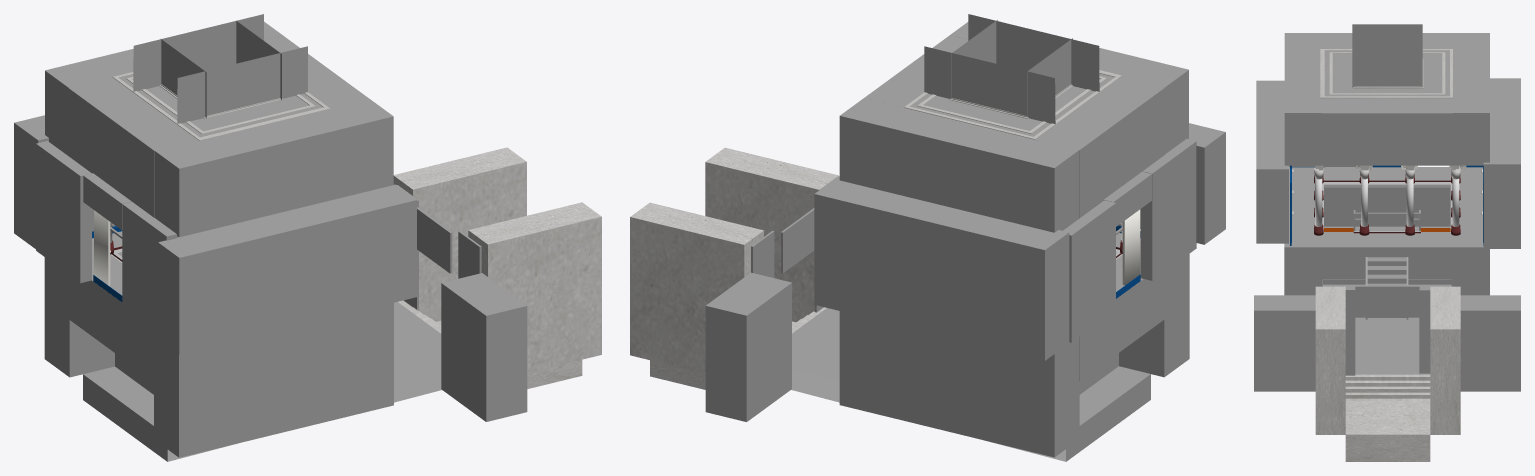
File: MainStairs.fbx
The picture shows the model from 3 angles, left to right: view 1: azimuth 30°, elevation 25°; view 2: azimuth 150°, elevation 25°; view 3: azimuth 270°, elevation 25°; orthographic projection. The views are drawn at different scales.
Parts seen in each view (by area): view 1: Cube.015, Cube.014, Cube.054, Cube.075, Cube.056, Cube.052, Cube.074, Cube.071, Cube.073, pCube2, Cube.011, Cube.013 (+12 smaller); view 2: Cube.016, Cube.013, Cube.072, Cube.074, Cube.057, Cube.052, Cube.075, Cube.070, Cube.073, pCube1, pCube2, Cube.011 (+12 smaller); view 3: Cube.053, Cube.056, Cube.057, Cube.016, Cube.011, Cube.051, Cube.015, Cube.054, Cube.072, Cube.074, Cube.075, Cube.073 (+23 smaller).
Boxes of the visible parts, x1,y1,x2,y2 form: Cube.015: (158,184,416,354); Cube.014: (154,303,393,457); Cube.054: (155,98,393,237); Cube.075: (468,202,601,372); Cube.056: (441,273,527,421); Cube.052: (68,77,197,217); Cube.074: (393,147,526,321); Cube.071: (177,46,322,137); Cube.073: (83,302,441,461); pCube2: (36,141,91,283); Cube.011: (69,255,153,381); Cube.013: (44,231,122,377); Cube.016: (814,176,1069,360); Cube.013: (839,311,1079,457); Cube.072: (839,98,1078,232); Cube.074: (630,202,763,373); Cube.057: (705,272,791,421); Cube.052: (1035,77,1164,218); Cube.075: (705,147,838,322); Cube.070: (910,46,1055,136); Cube.073: (791,308,1150,461); pCube1: (1140,139,1196,280); pCube2: (1063,200,1115,342); Cube.011: (1079,255,1164,380); Cube.053: (1321,98,1452,165); Cube.056: (1254,295,1315,391); Cube.057: (1460,295,1520,391); Cube.016: (1483,78,1520,248); Cube.011: (1323,167,1451,221); Cube.051: (1345,401,1430,461); Cube.015: (1256,80,1288,243); Cube.054: (1284,33,1321,165); Cube.072: (1453,33,1489,165); Cube.074: (1430,286,1460,434); Cube.075: (1315,286,1345,434); Cube.073: (1323,284,1451,374).
Size of the model in its own units: 1692 by 1370 by 1108.
